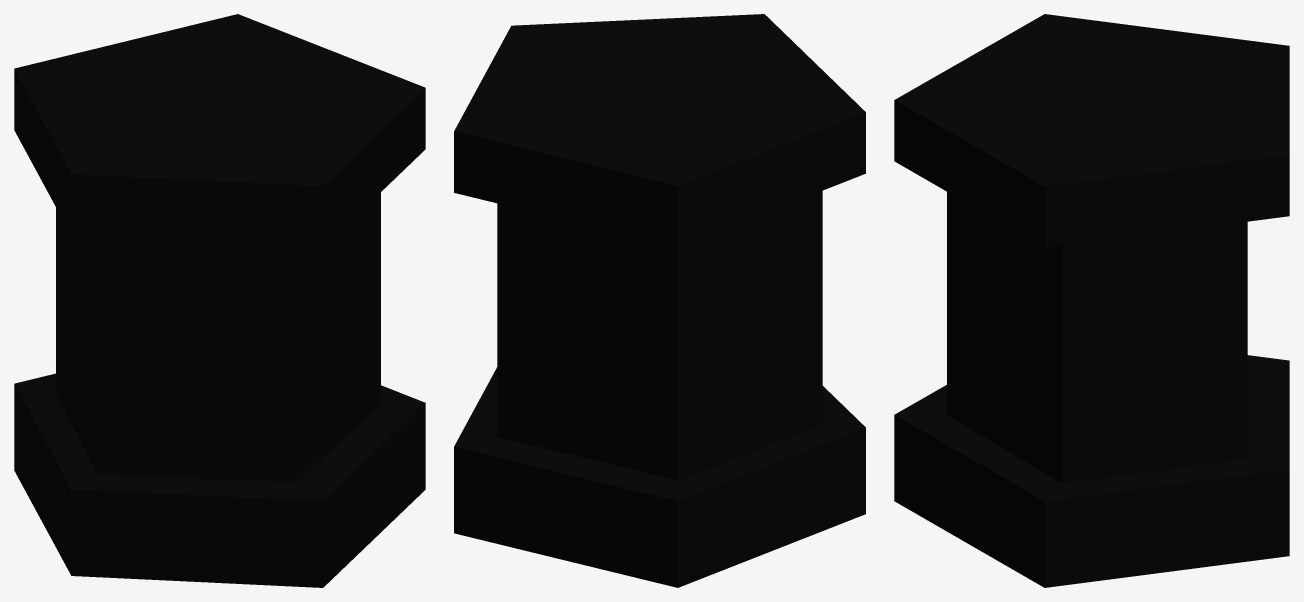
File: Pedestal.glb
3 views of the same model, side by side, from view 1: azimuth 30°, elevation 25°; view 2: azimuth 150°, elevation 25°; view 3: azimuth 270°, elevation 25° (orthographic).
Parts seen in each view (by area): view 1: Pedestal; view 2: Pedestal; view 3: Pedestal.
Part boxes in pixels (left/top/right/bottom): Pedestal: left=14, top=14, right=425, bottom=587; Pedestal: left=454, top=14, right=865, bottom=587; Pedestal: left=894, top=14, right=1289, bottom=587.
Size of the model in its own units: 60 by 65 by 58.
Materials: 1 (1 with a texture image).
